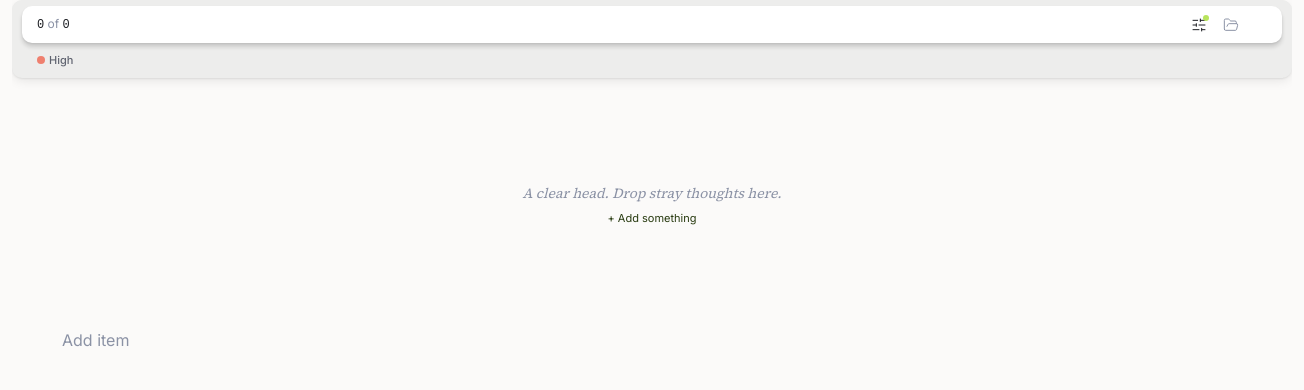
Test case: opening the menu from the shelf › brings focus back to the shelf showing as it closes, even one a later pick put back
The width and height of the screenshot is (1304, 390).
Click the button with test id "display-shelf-open-braindump" at (652, 60), box [37,51,1267,69]
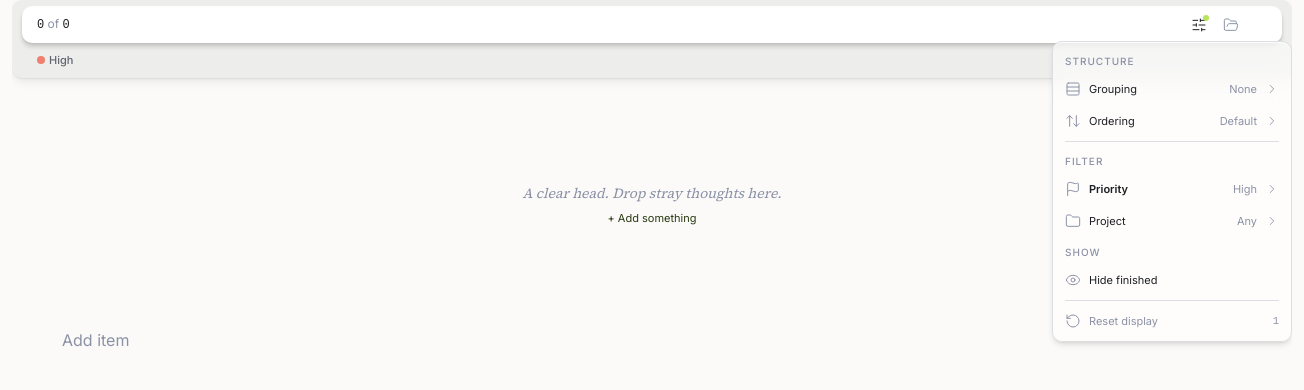
Click the menu item "Priority High" at (1109, 188), box [1065,181,1279,197]
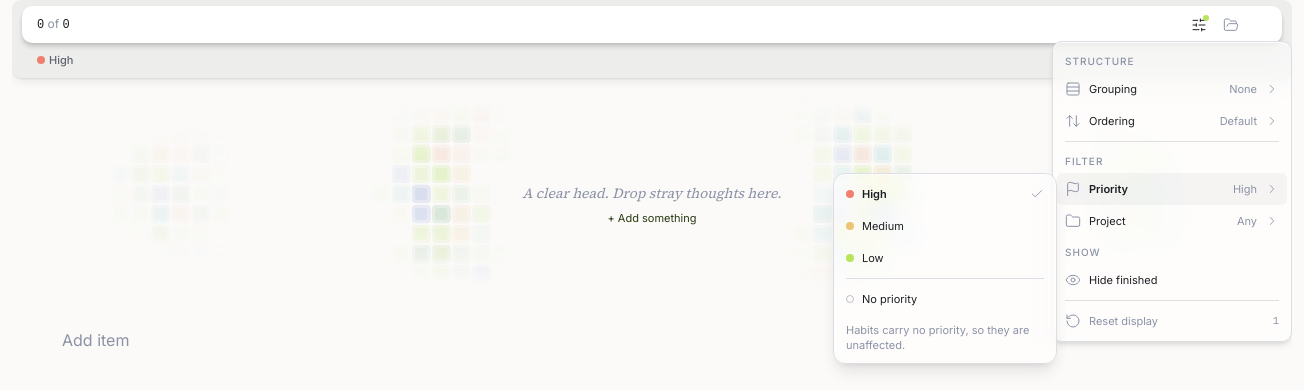
Click the menu item "High" at (850, 194), box [846,186,1044,201]
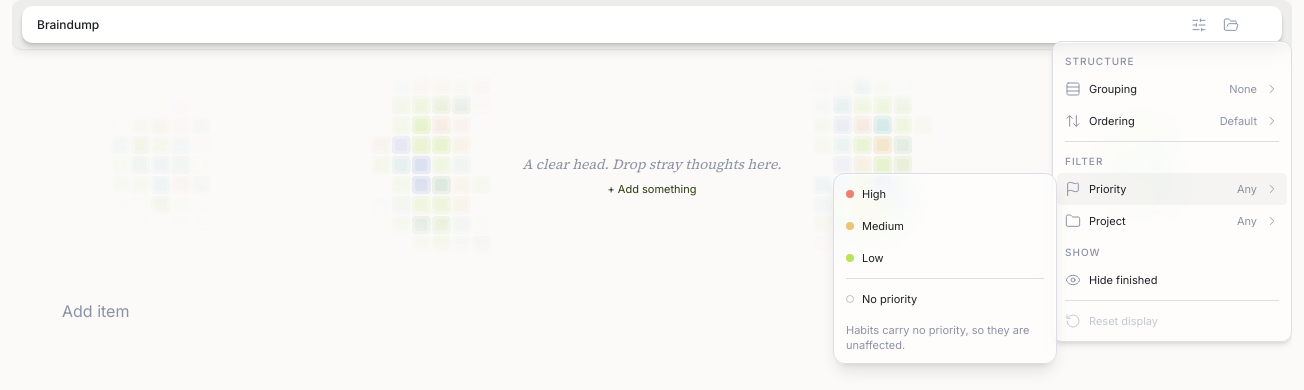
Expected: the element with test id "display-shelf-braindump" is gone
Click the menu item "Medium" at (875, 226), box [846,218,904,232]
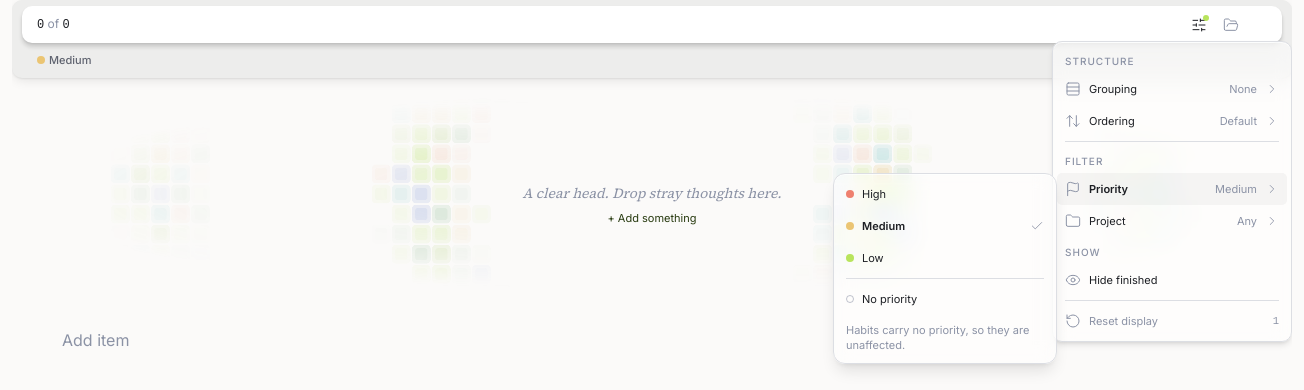
Expected: the element showing "Medium" below "of" is shown, [49,53,92,67]
Press Escape in the menu with test id "display-menu", box [1052,41,1292,342]
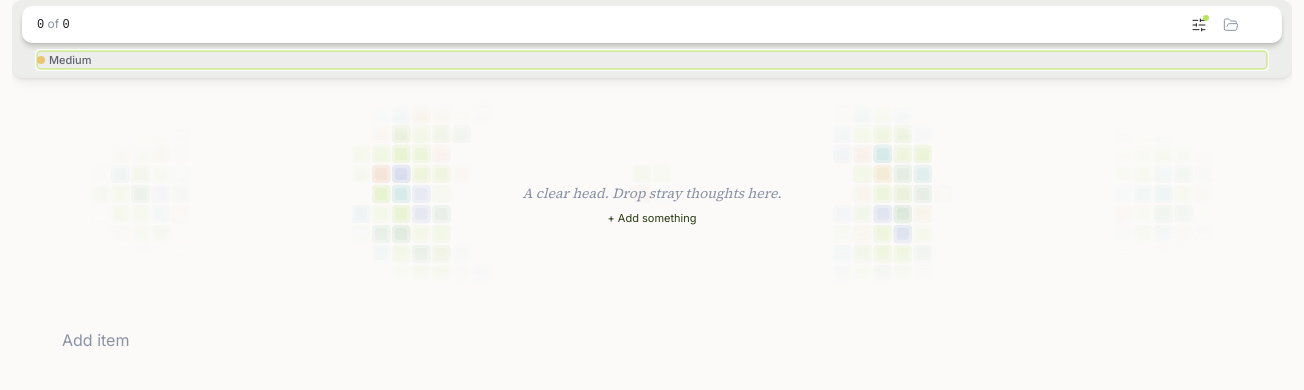
Expected: the menu with test id "display-menu" is gone
